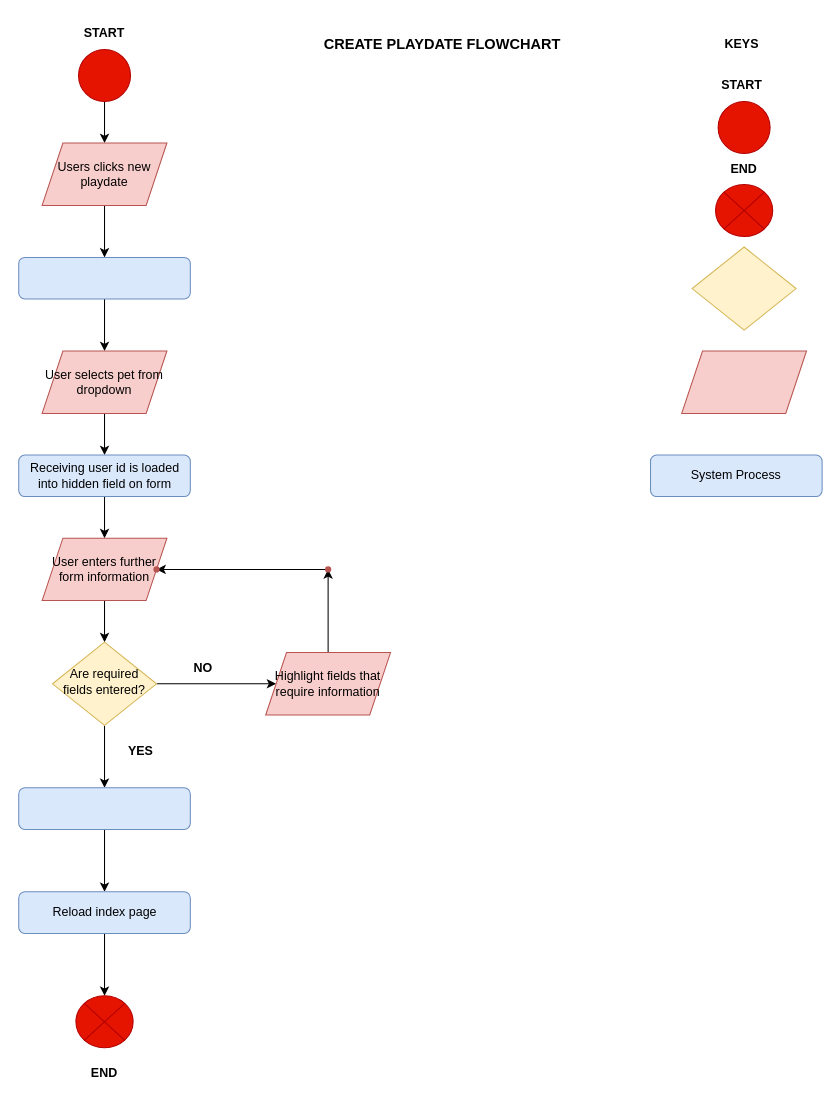
The diagram is 840 pixels wide and 1107 high, and some of its shapes have lost their labels. The shapes that lost their labels are listed below. From the top down, each one's centre as x and y in pixels, then its label:
At point (104, 277): "Populate dropdown with pet breed data".
At point (743, 288): "Decision".
At point (744, 381): "Input/Output".
At point (104, 808): "Upload information to database".
